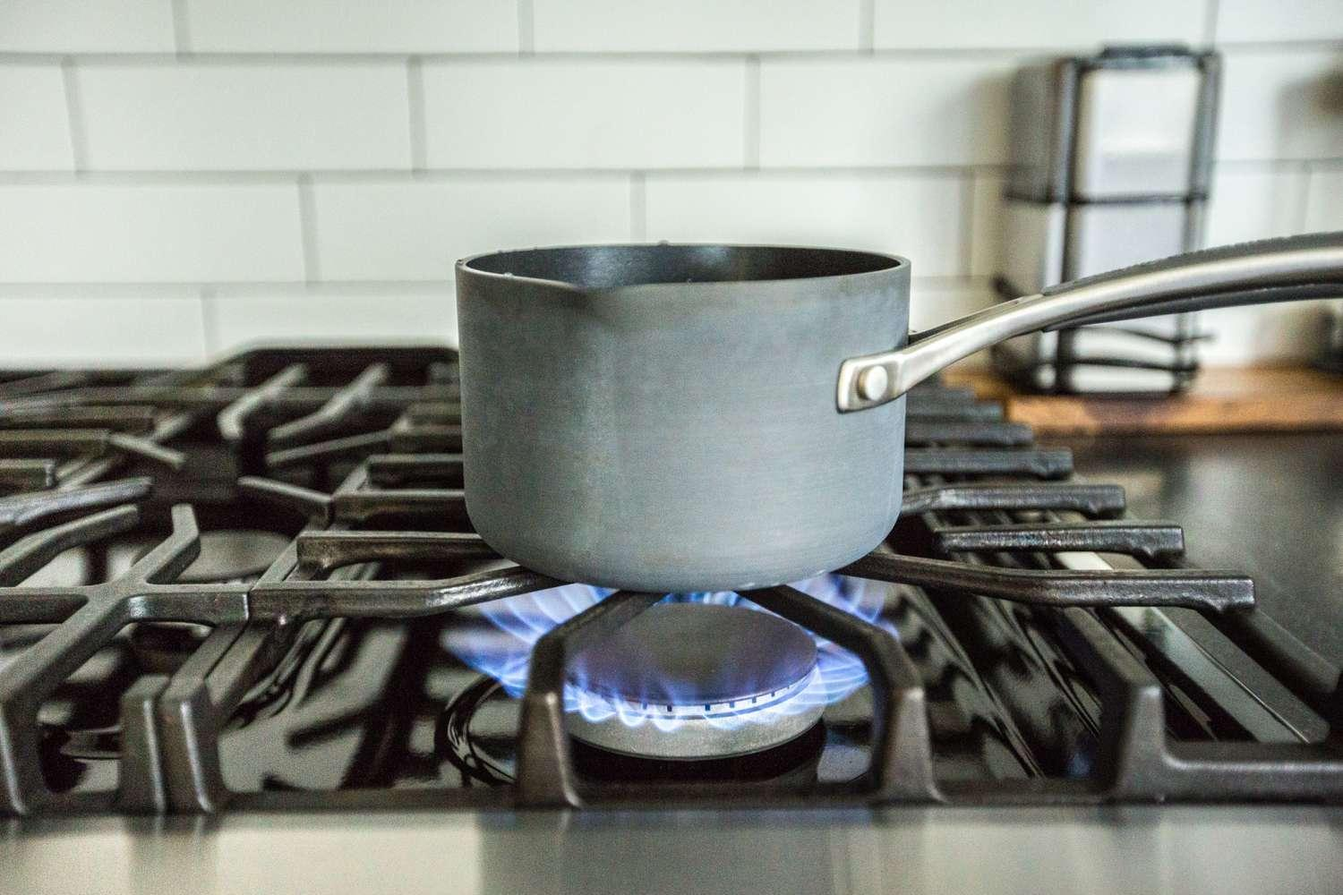controlled_fire: (457, 493, 948, 782)
